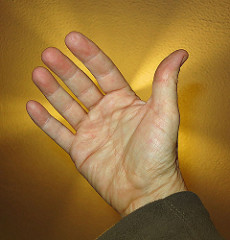palm: (72, 99, 172, 195)
